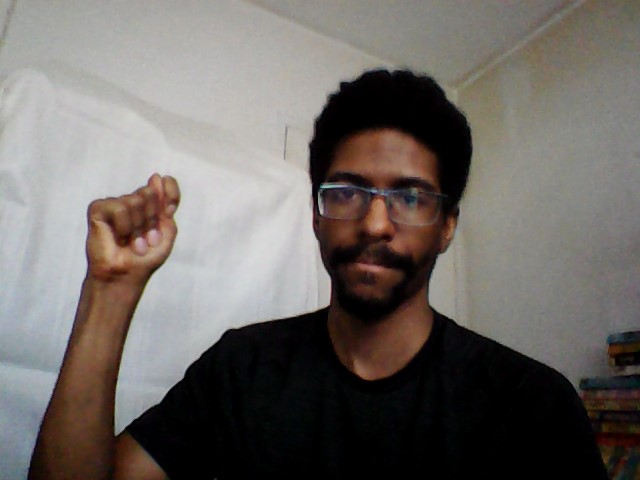t: (81, 169, 188, 280)
